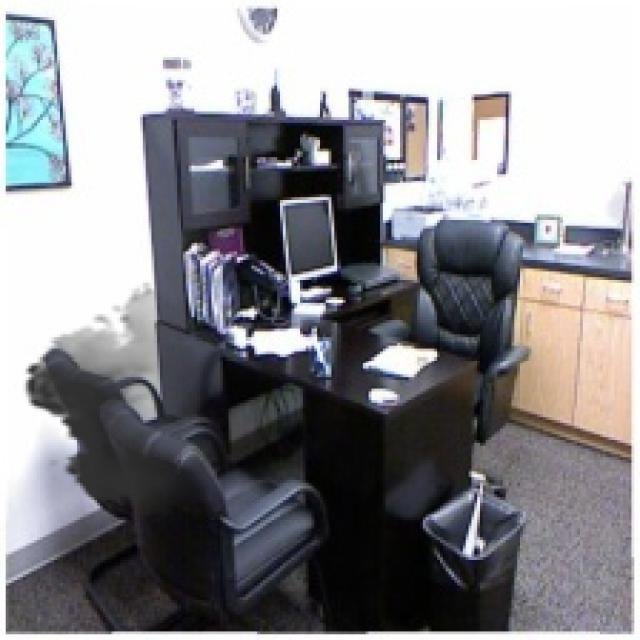smoke: (14, 280, 266, 523)
